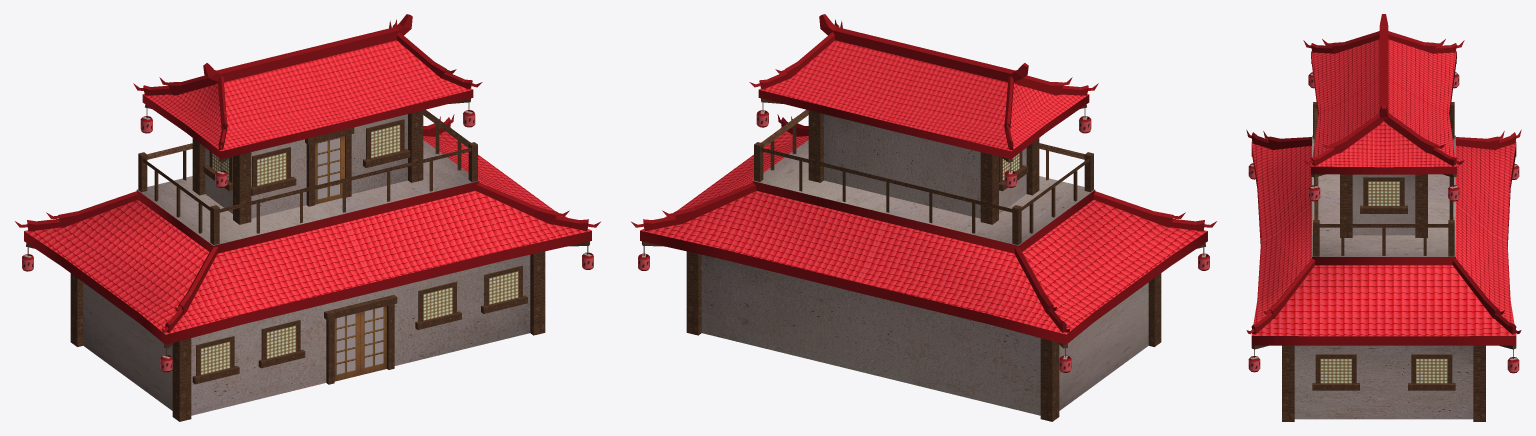
File: Chinese_House.fbx
The picture shows the model from 3 angles, left to right: view 1: azimuth 30°, elevation 25°; view 2: azimuth 150°, elevation 25°; view 3: azimuth 270°, elevation 25°; orthographic projection. The views are drawn at different scales.
Parts seen in each view (by area): view 1: chinese_house_objObject01.001; view 2: chinese_house_objObject01.001; view 3: chinese_house_objObject01.001.
Boxes of the visible parts, <box> form: chinese_house_objObject01.001: <box>15,14,600,421</box>; chinese_house_objObject01.001: <box>631,14,1216,421</box>; chinese_house_objObject01.001: <box>1246,14,1521,421</box>.
Bounding box in the file's own units: 893 × 578 × 517.
